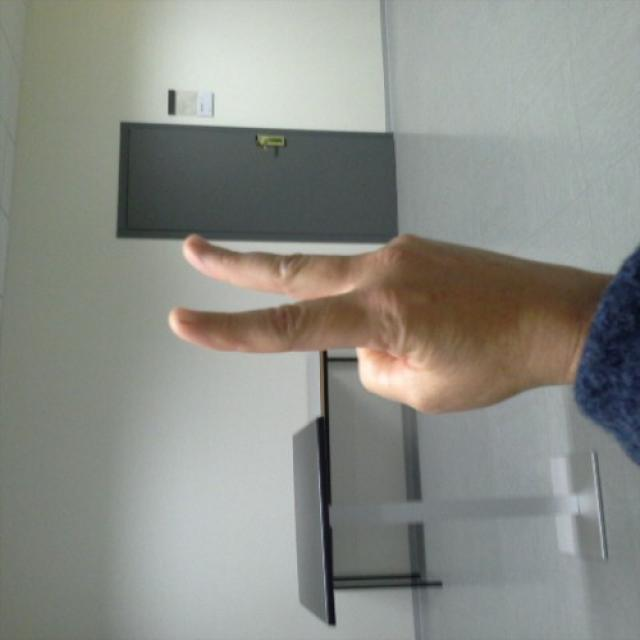scissors: (168, 230, 508, 414)
